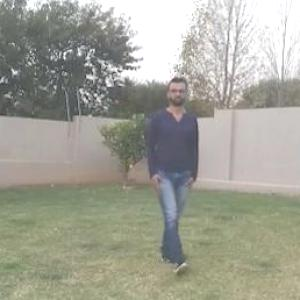follow: (150, 80, 194, 257)
